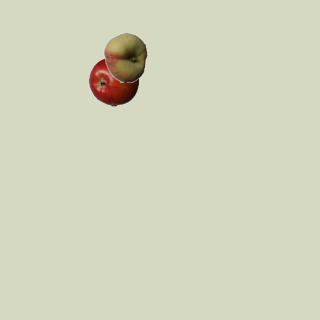Apple Braeburn: (88, 56, 138, 106)
Peach Flat: (100, 32, 150, 82)
